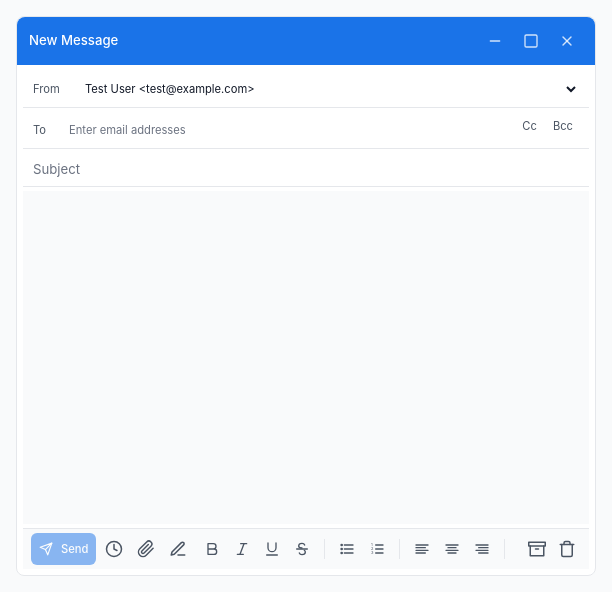
ComposeWindow - template picker › applies template when template item is clicked
Expected: the field with placeholder "Subject" is shown, [33,160,579,180]
# Open template picker
Click the button titled "Insert template" at (178, 549), box [164,535,192,563]
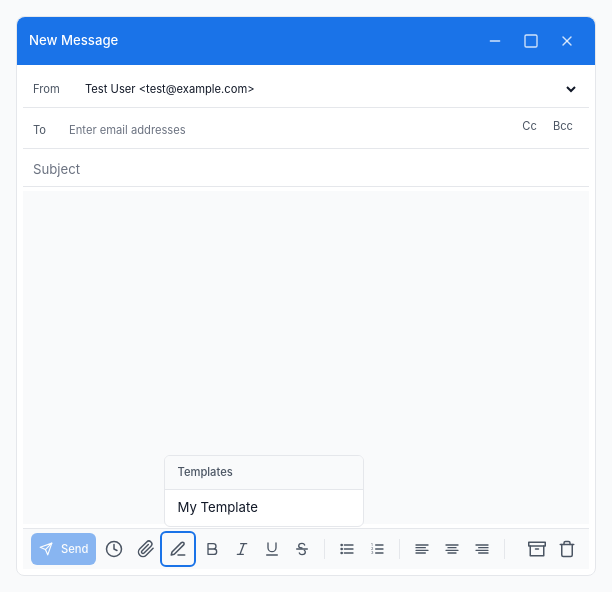
Now the button "My Template" is shown
# Click the template to apply it
Click the button "My Template" at (264, 508), box [166,490,364,526]
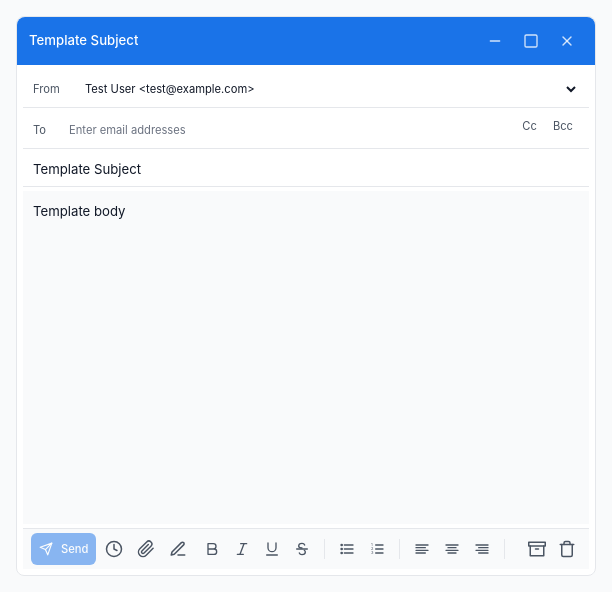
Now the field with placeholder "Subject" holds "Template Subject", box [33,160,579,180]
